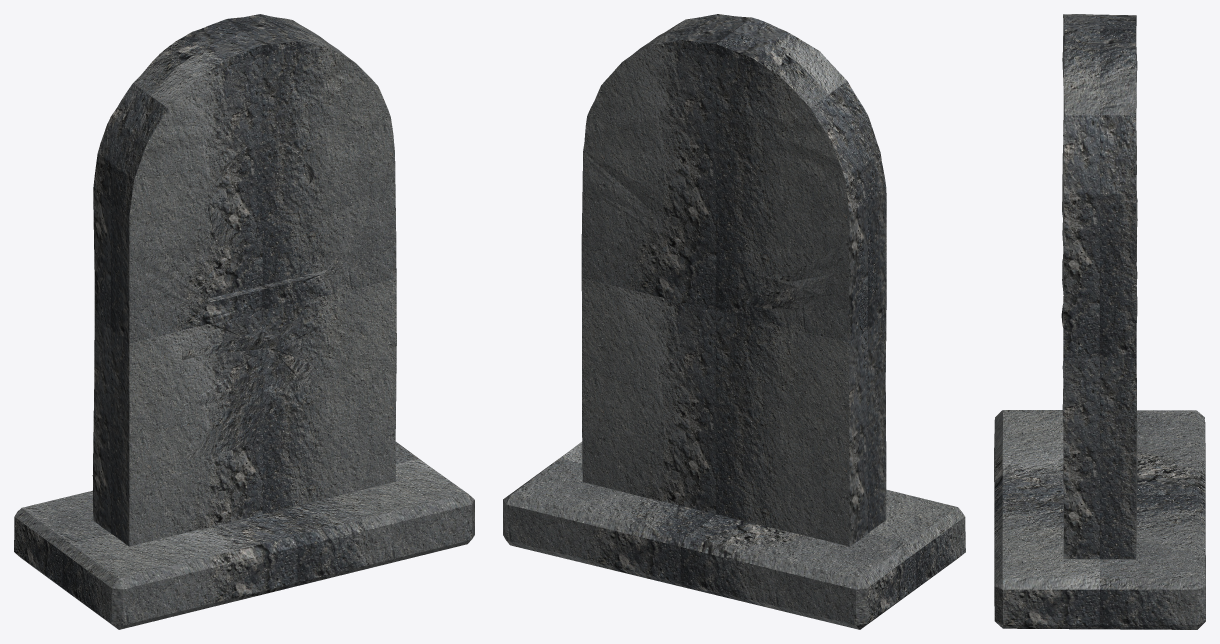
The model's file is ancient-tombstone-v01.glb.
3 views of the same model, side by side, from view 1: azimuth 30°, elevation 25°; view 2: azimuth 150°, elevation 25°; view 3: azimuth 270°, elevation 25° (orthographic).
Visible parts, largest first — view 1: ancient-tombstone; view 2: ancient-tombstone; view 3: ancient-tombstone.
Boxes of the visible parts, x1=… form: ancient-tombstone: x1=14, y1=14, x2=474, y2=629; ancient-tombstone: x1=503, y1=14, x2=965, y2=629; ancient-tombstone: x1=994, y1=14, x2=1205, y2=629.
Bounding box in the file's own units: 1.5 × 2.05 × 0.7635.
2 materials, 2 textured.
